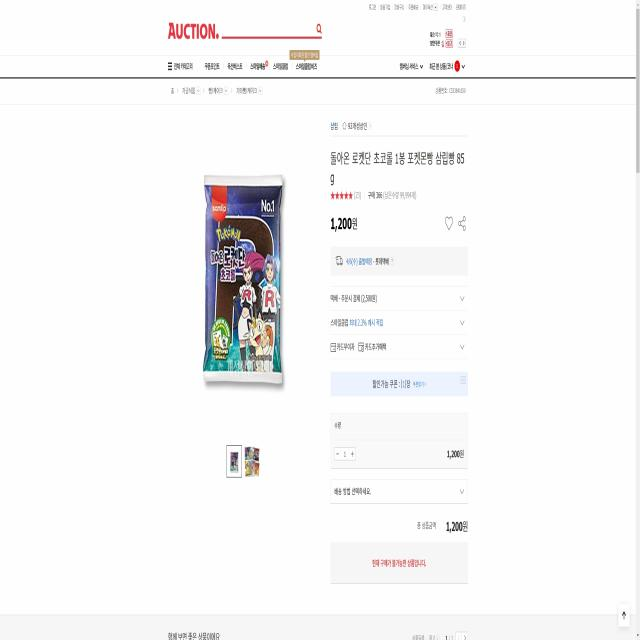menu-bar: (367, 2, 468, 12)
search: (221, 17, 323, 41)
side-panel: (324, 112, 471, 587)
tab-bar: (165, 59, 322, 74), (168, 86, 264, 99)
